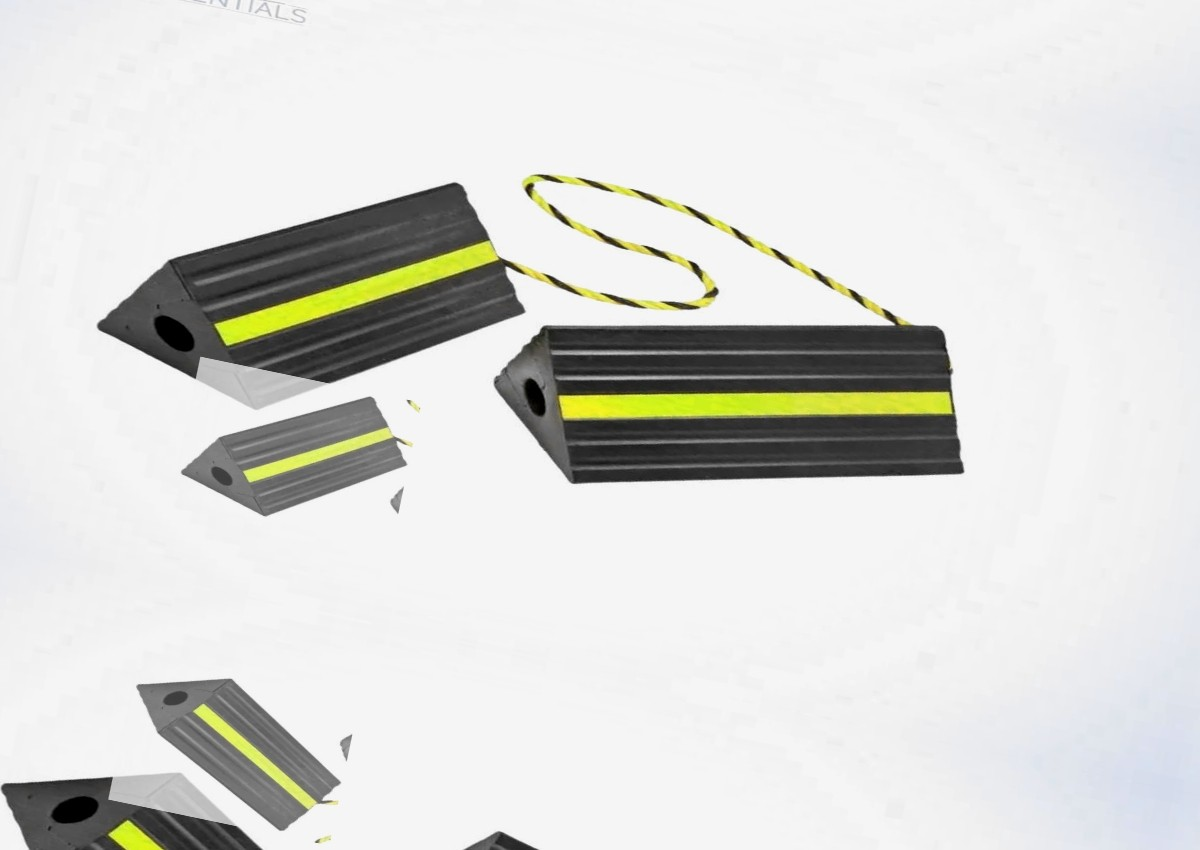chock: (479, 234, 995, 566), (77, 107, 552, 464), (108, 658, 359, 846), (171, 357, 421, 545)
